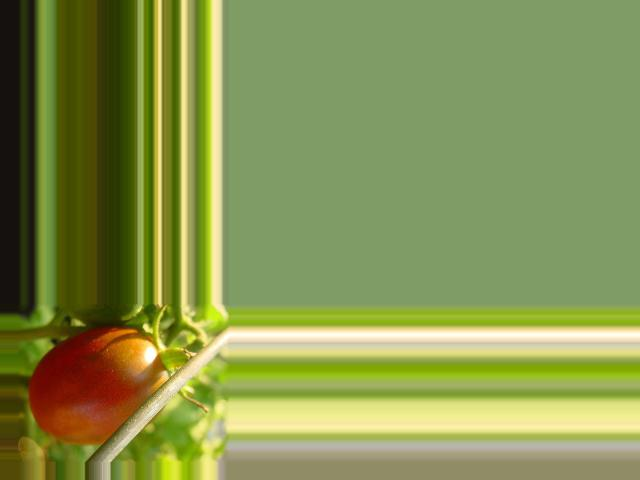tomato: (29, 328, 168, 443)
